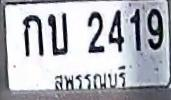1: (129, 8, 140, 51)
2: (86, 11, 105, 53)
4: (108, 9, 124, 52)
9: (147, 8, 163, 49)
A01: (22, 14, 43, 57)
A26: (47, 12, 68, 56)
SPB: (46, 63, 134, 93)
